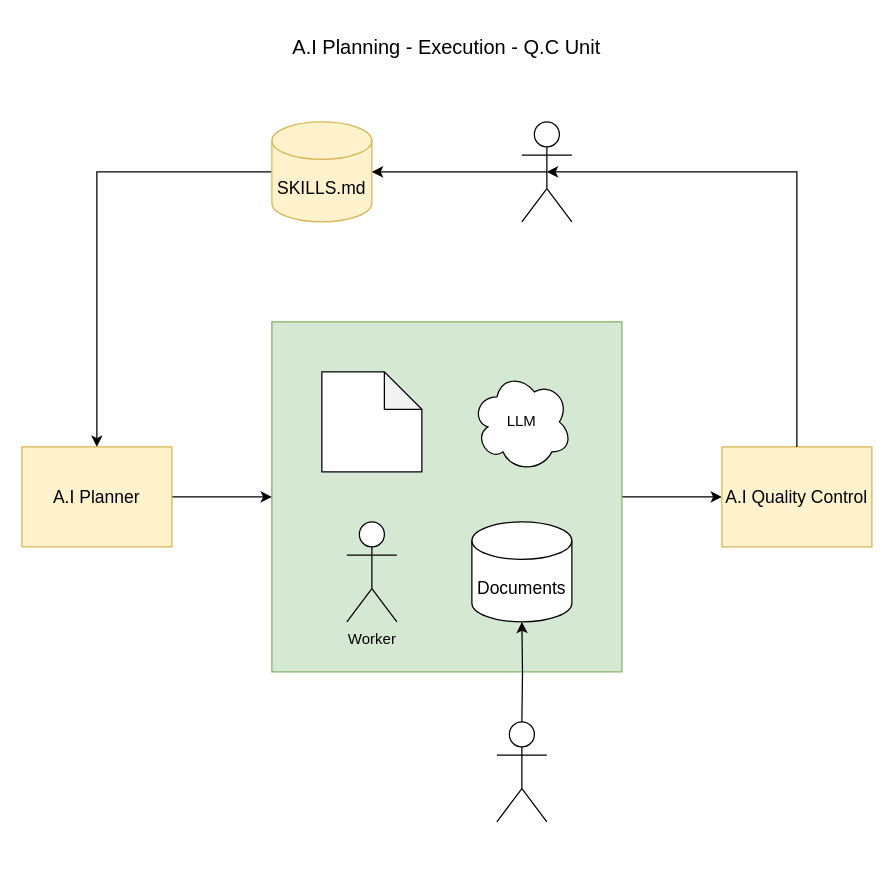
Image size: 894x869. Some labels were removed from this diagram. The shapes that lost their labels are listed below. From the top down, each one's box as (x1, y1, x2, y2) in pixels, then its label:
(521, 121, 572, 222): Expert
(321, 371, 422, 472): Step-by-Step Guides
(496, 721, 547, 822): Feeder
